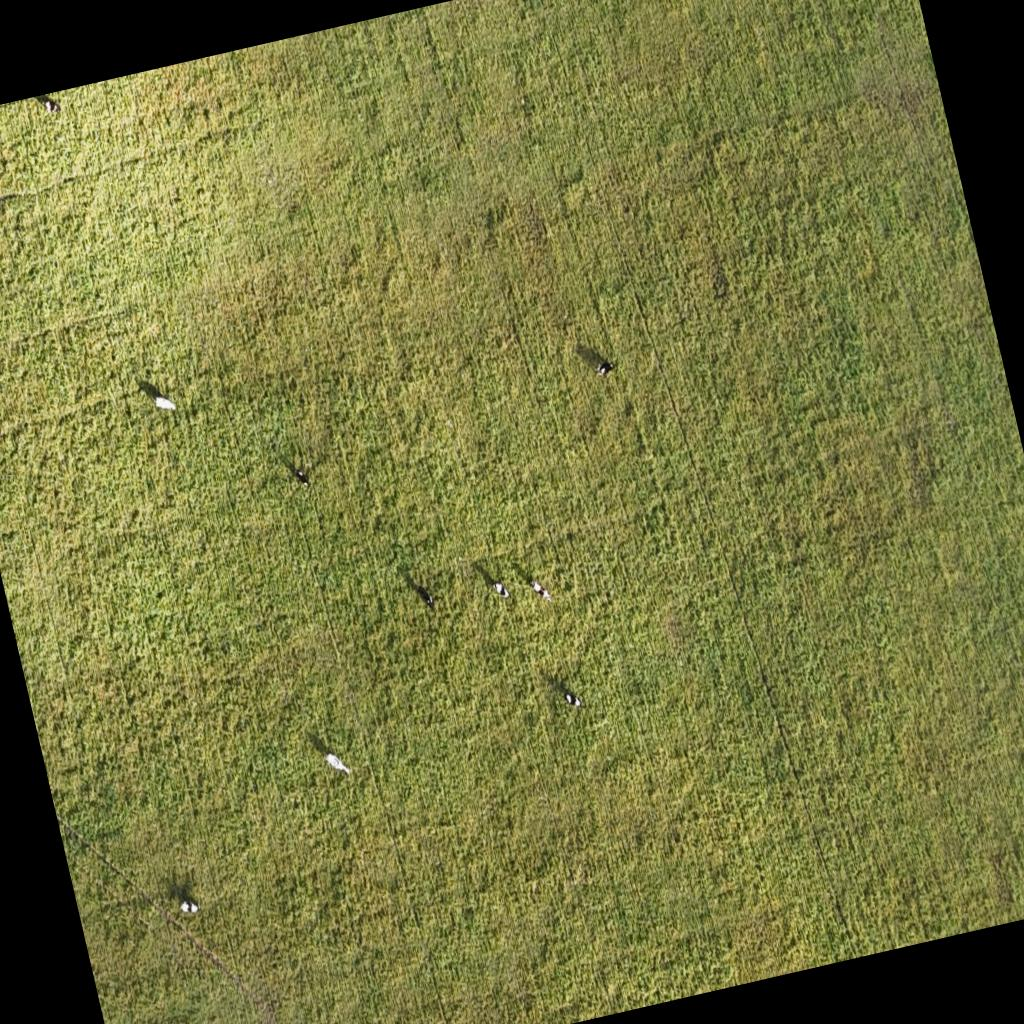cow: (414, 580, 438, 613), (290, 460, 313, 492), (326, 751, 351, 779), (152, 390, 178, 416), (41, 96, 62, 120), (530, 577, 550, 602), (180, 896, 202, 916), (594, 360, 614, 378), (493, 581, 510, 601), (566, 691, 582, 709), (565, 693, 574, 706)
